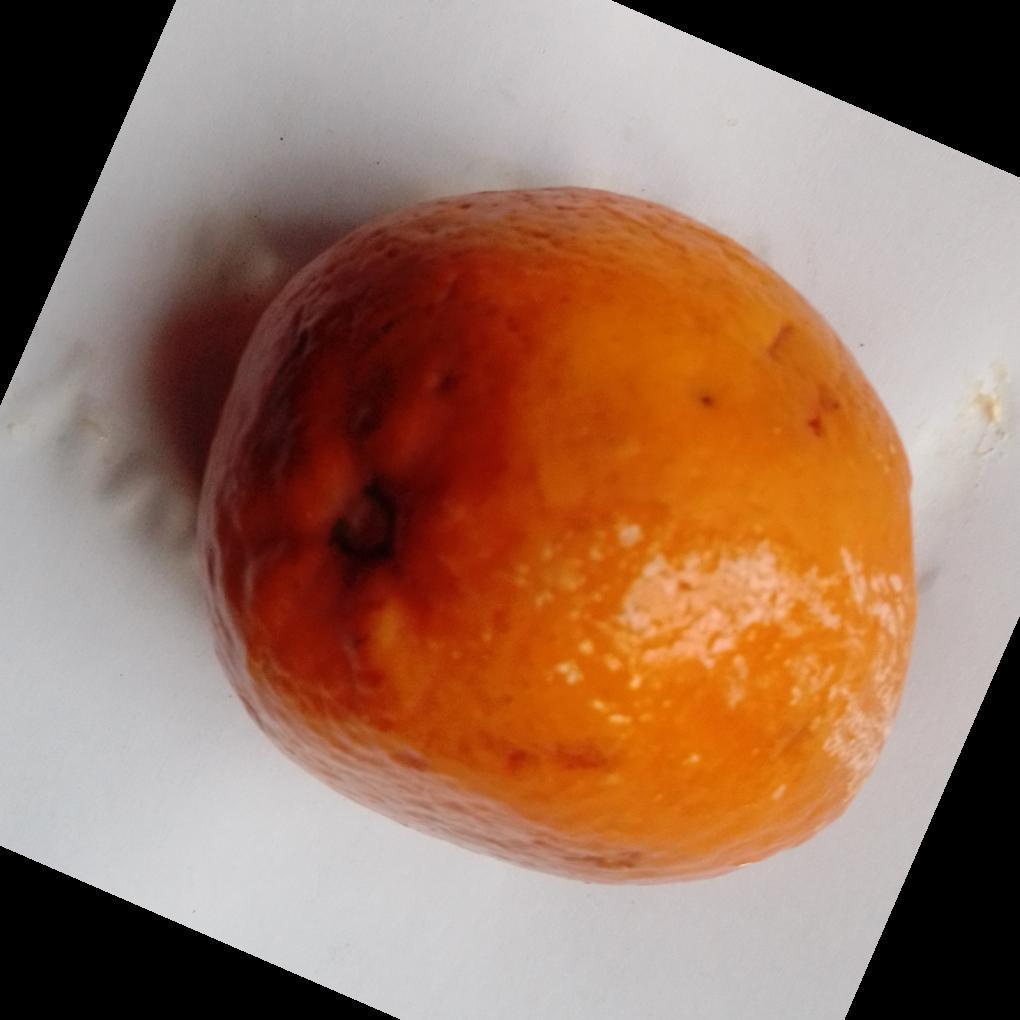FreshOrange: (193, 186, 919, 888)
